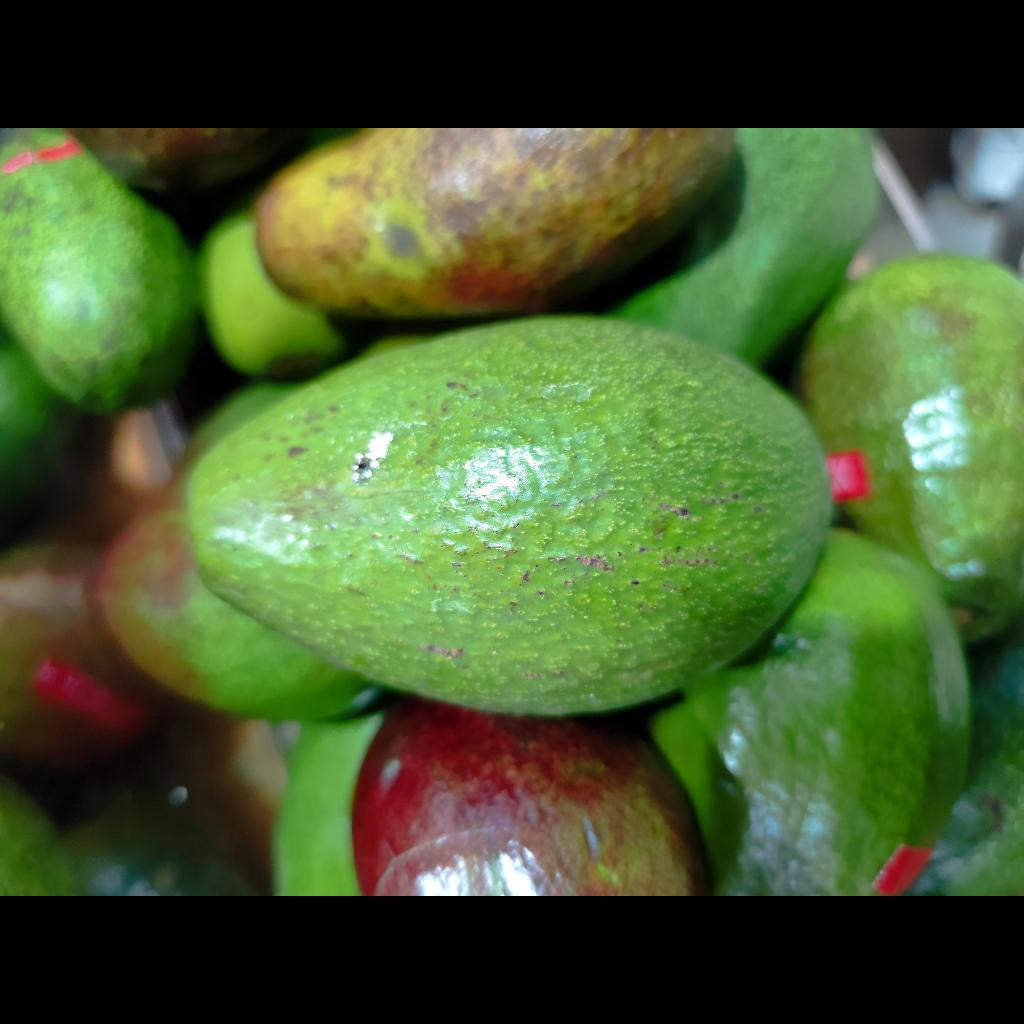anthracnose: (256, 128, 734, 318), (352, 699, 705, 896)
healthy: (188, 316, 830, 715), (650, 530, 969, 896), (800, 253, 1024, 641)
